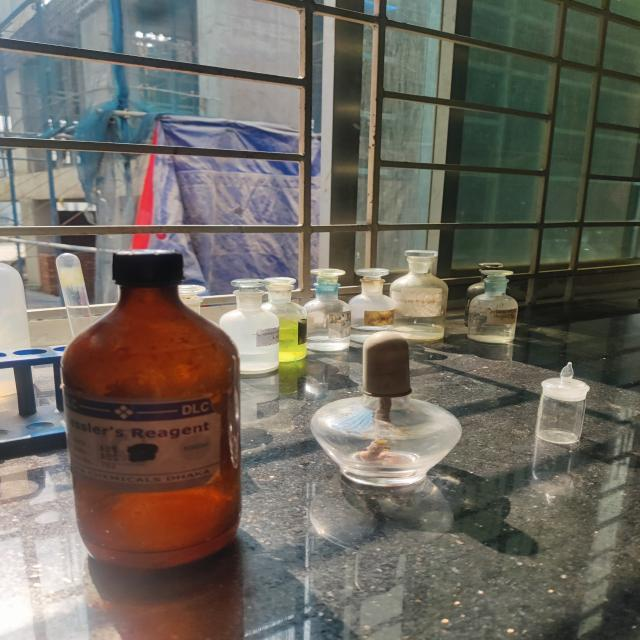Nessler_Reagent_Bottle: (43, 223, 273, 592)
Spirit_Lamp: (288, 328, 476, 509)
Weighing_Bottle: (512, 338, 604, 468)
